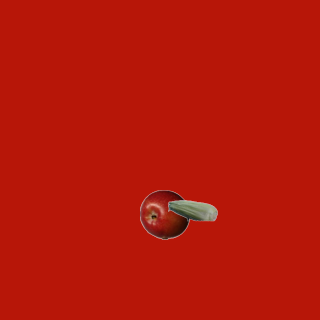Apple Braeburn: (139, 189, 189, 239)
Corn Husk: (167, 185, 217, 235)
